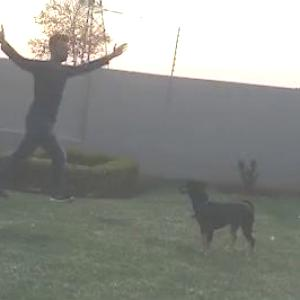takeoff: (0, 23, 131, 209)
